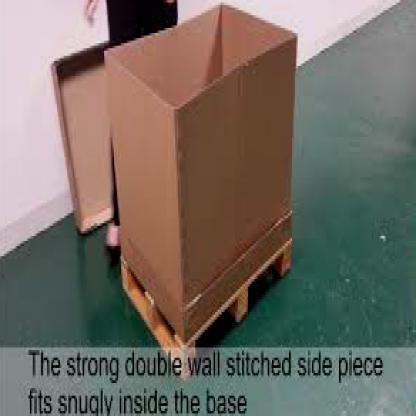package: (104, 4, 298, 345)
